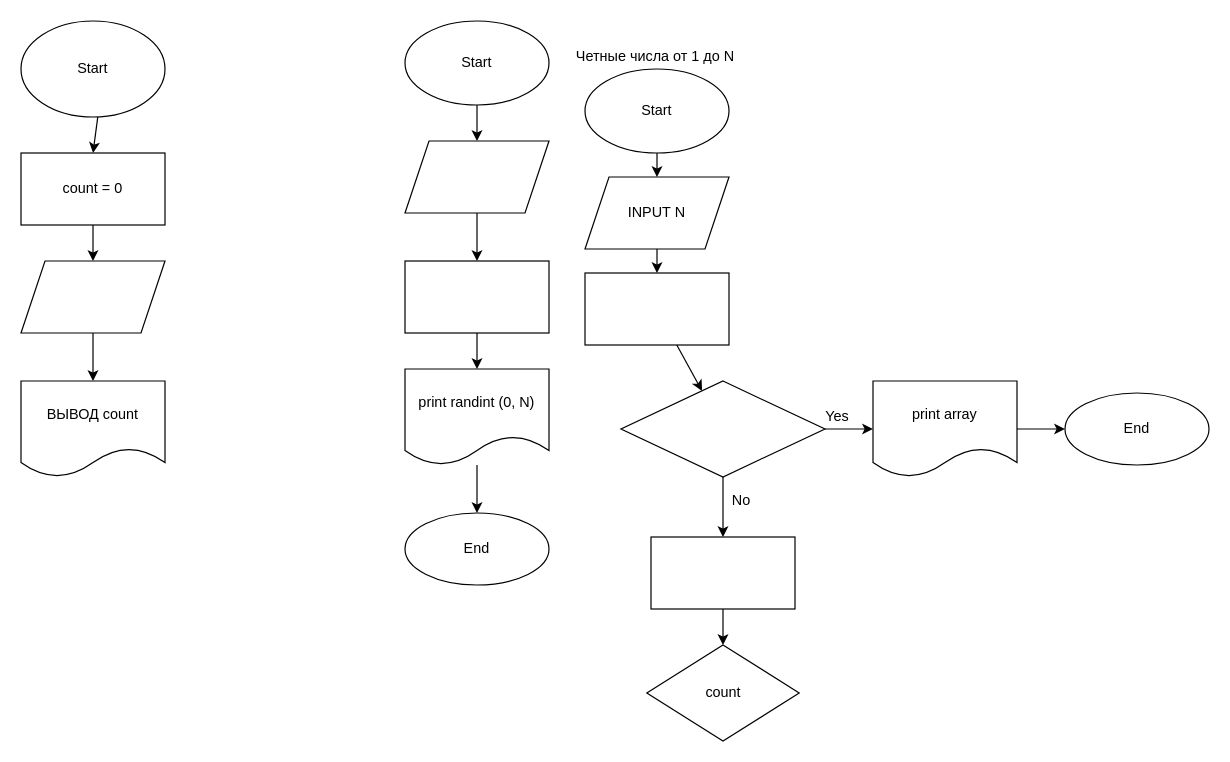
Some shapes in this 1230 by 762 pixel diagram are drawn without their labels. The centre of each missing label's shape, as x and y in pixels:
"count = count + 1" belongs at point 722,572.
"count = N" belongs at point 722,428.
"import random r = randint (1, N)" belongs at point 476,296.
"r = randint (1, N) array = array [ ] count = 1 index = 0" belongs at point 656,308.
"ВВОД count" belongs at point 92,296.
"ВВОД N" belongs at point 476,176.
